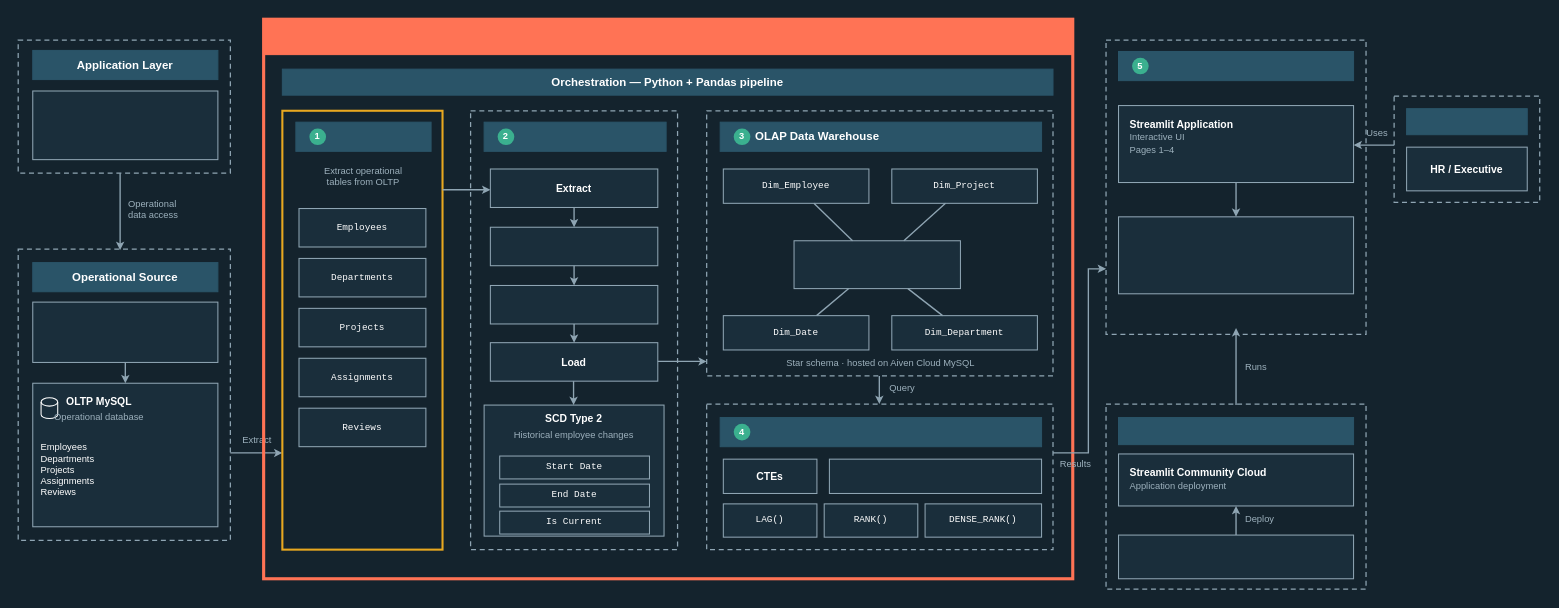
The diagram is 1559 pixels wide and 608 high, and some of its shapes have lost their labels. The shapes that lost their labels are listed below. From the top down, each one's box as (x1, y1, x2, y2) in pixels, then its label:
(263, 18, 1073, 55): Employee Analytics Platform
(1117, 50, 1354, 81): Application & Presentation
(32, 90, 218, 160): Python Application Application logic · database connections
(295, 121, 431, 151): Ingestion
(483, 121, 666, 151): ETL Pipeline
(1406, 108, 1527, 135): Users
(489, 226, 658, 266): Clean
(793, 240, 960, 289): Fact_<br>PerformanceReviews
(1117, 216, 1354, 294): Analytics Dashboard KPIs · Charts Employee insights
(489, 284, 658, 324): Transform
(32, 301, 218, 362): Aiven Cloud Managed MySQL SSL connection
(719, 417, 1042, 447): Analytics & Query (SQL)
(1117, 417, 1354, 445): Version Control & Deployment
(828, 458, 1042, 493): Window functions
(1117, 534, 1354, 579): GitHub Source code + repository
